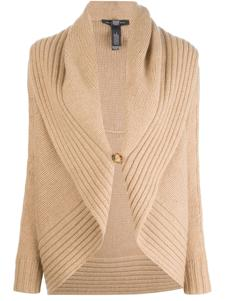S_cardigan sweater: (18, 8, 218, 301)
